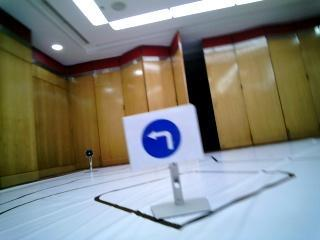left: (129, 119, 195, 158)
